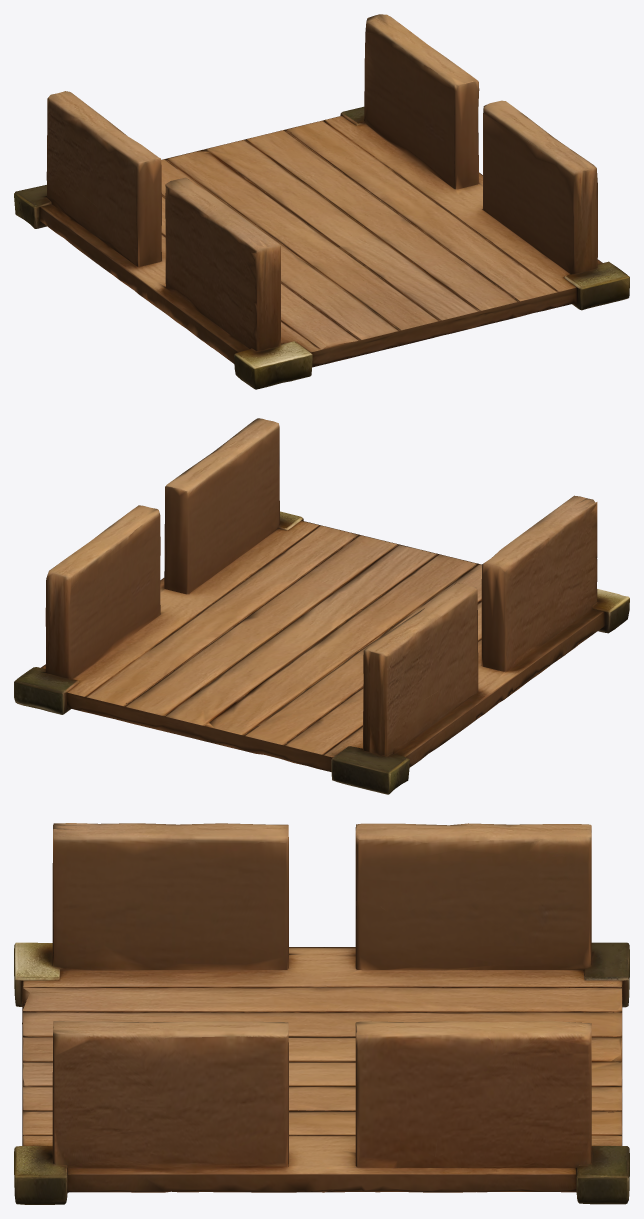
The model's file is wind_ferry.glb.
3 renders of one model, top to bottom at view 1: azimuth 30°, elevation 25°; view 2: azimuth 150°, elevation 25°; view 3: azimuth 270°, elevation 25°, orthographic. The views are drawn at different scales.
Visible parts, largest first — view 1: tripo_node_e42d3205-94b1-4c5f-ac8b-09e7a5e5e401; view 2: tripo_node_e42d3205-94b1-4c5f-ac8b-09e7a5e5e401; view 3: tripo_node_e42d3205-94b1-4c5f-ac8b-09e7a5e5e401.
Part boxes in pixels (left/top/right/bottom): tripo_node_e42d3205-94b1-4c5f-ac8b-09e7a5e5e401: left=14, top=14, right=629, bottom=389; tripo_node_e42d3205-94b1-4c5f-ac8b-09e7a5e5e401: left=14, top=418, right=629, bottom=794; tripo_node_e42d3205-94b1-4c5f-ac8b-09e7a5e5e401: left=14, top=823, right=629, bottom=1204.
Size of the model in its own units: 0.38 by 0.122 by 0.42.
Materials: 1 (1 with a texture image).
